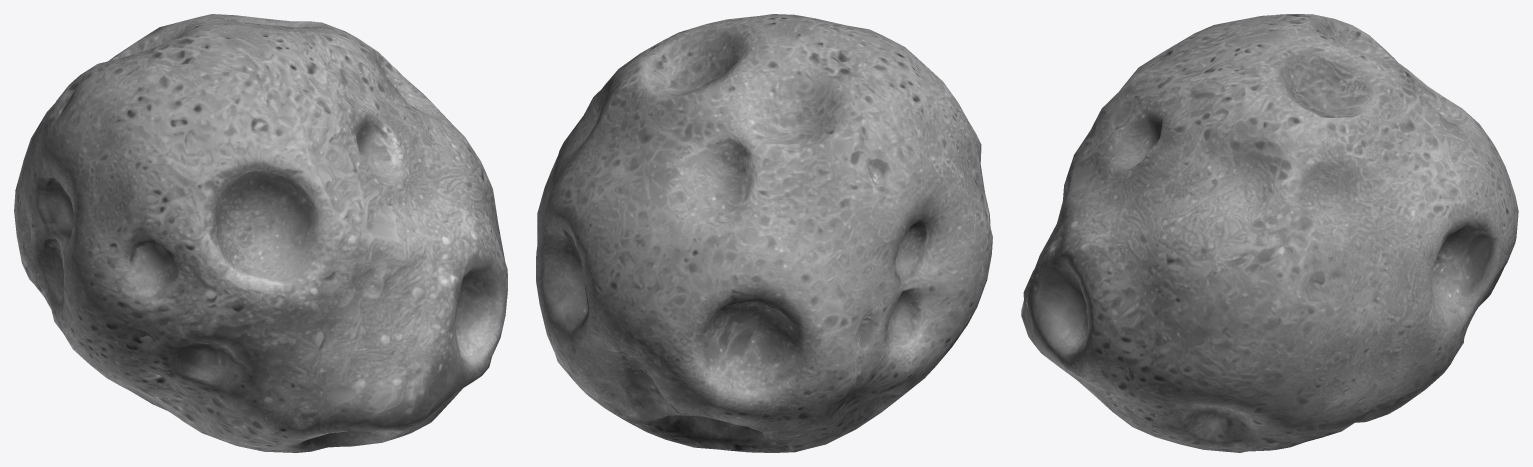
Rendered from rock_06.glb.
The picture shows the model from 3 angles, left to right: view 1: azimuth 30°, elevation 25°; view 2: azimuth 150°, elevation 25°; view 3: azimuth 270°, elevation 25°; orthographic projection. The views are drawn at different scales.
Visible parts, largest first — view 1: rock_06; view 2: rock_06; view 3: rock_06.
Boxes of the visible parts, <box> form: rock_06: <box>14,14,507,452</box>; rock_06: <box>536,14,992,452</box>; rock_06: <box>1021,14,1518,452</box>.
Size of the model in its own units: 1.63 by 1.54 by 1.88.
1 material, 1 textured.
